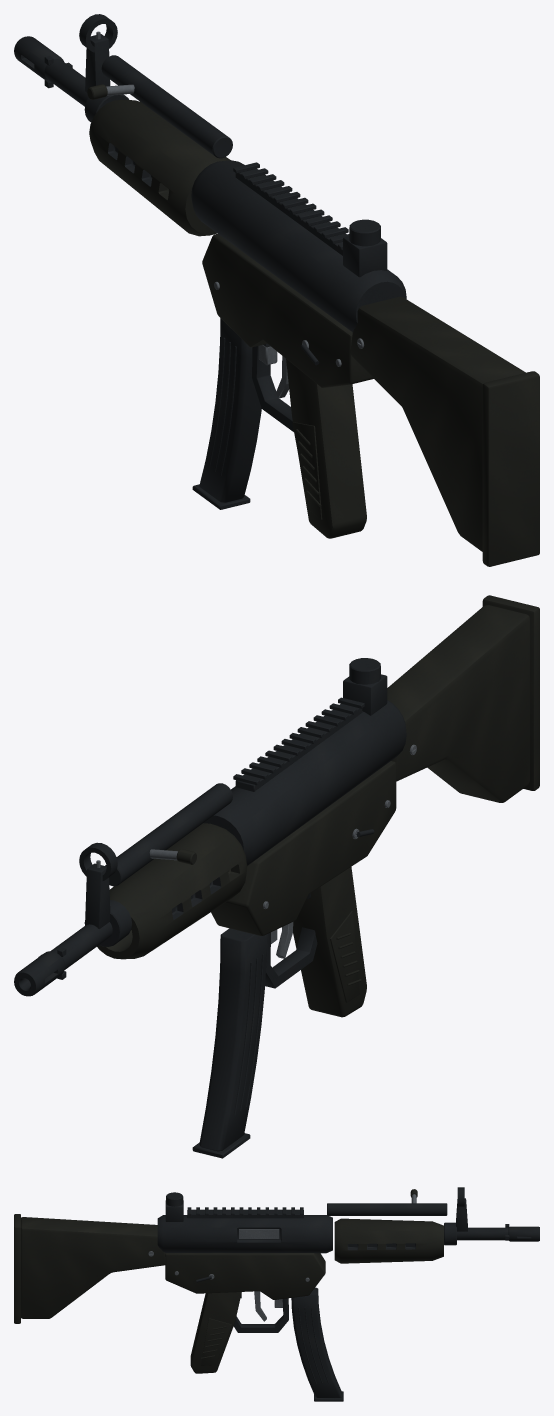
File: smg_realistic.glb
The picture shows the model from 3 angles, top to bottom: view 1: azimuth 30°, elevation 25°; view 2: azimuth 150°, elevation 25°; view 3: azimuth 270°, elevation 25°; orthographic projection. The views are drawn at different scales.
Visible parts, largest first — view 1: Fixed polymer shoulder stock, Stamped upper receiver, SMG lower trigger housing, SMG recoil pad, Wide polymer forearm, Pistol grip, Curved 9mm magazine, Cocking tube, Trigger guard, Grip moulded insert, Diopter sight pedestal, Rail dovetail (+5 smaller); view 2: Fixed polymer shoulder stock, SMG lower trigger housing, Stamped upper receiver, Wide polymer forearm, Curved 9mm magazine, Pistol grip, Cocking tube, SMG recoil pad, Trigger guard, Grip moulded insert, Three lug muzzle, Front sight support (+6 smaller); view 3: Fixed polymer shoulder stock, SMG lower trigger housing, Stamped upper receiver, Wide polymer forearm, Curved 9mm magazine, Pistol grip, Cocking tube, Rail dovetail, Grip moulded insert.001, SMG recoil pad, Short exposed barrel, Trigger guard (+5 smaller).
Part boxes in pixels (left/top/right/bottom): Fixed polymer shoulder stock: left=350, top=296, right=525, bottom=551; Stamped upper receiver: left=191, top=160, right=406, bottom=332; SMG lower trigger housing: left=202, top=233, right=373, bottom=387; SMG recoil pad: left=482, top=371, right=539, bottom=566; Wide polymer forearm: left=89, top=100, right=230, bottom=236; Pistol grip: left=286, top=359, right=366, bottom=538; Curved 9mm magazine: left=199, top=318, right=261, bottom=502; Cocking tube: left=101, top=55, right=232, bottom=158; Trigger guard: left=252, top=343, right=293, bottom=431; Grip moulded insert: left=292, top=422, right=322, bottom=519; Diopter sight pedestal: left=343, top=236, right=387, bottom=277; Rail dovetail: left=235, top=168, right=346, bottom=255; Fixed polymer shoulder stock: left=387, top=605, right=529, bottom=802; SMG lower trigger housing: left=211, top=761, right=396, bottom=935; Stamped upper receiver: left=204, top=700, right=406, bottom=865; Wide polymer forearm: left=97, top=823, right=247, bottom=959; Curved 9mm magazine: left=199, top=928, right=267, bottom=1151; Pistol grip: left=293, top=867, right=366, bottom=1017; Cocking tube: left=105, top=783, right=232, bottom=886; SMG recoil pad: left=482, top=595, right=539, bottom=790; Trigger guard: left=265, top=893, right=317, bottom=988; Grip moulded insert: left=330, top=911, right=359, bottom=1002; Three lug muzzle: left=14, top=951, right=64, bottom=996; Front sight support: left=85, top=863, right=110, bottom=928; Fixed polymer shoulder stock: left=21, top=1217, right=165, bottom=1318; SMG lower trigger housing: left=165, top=1253, right=325, bottom=1299; Stamped upper receiver: left=157, top=1215, right=332, bottom=1253; Wide polymer forearm: left=334, top=1218, right=443, bottom=1263; Curved 9mm magazine: left=291, top=1287, right=342, bottom=1397; Pistol grip: left=190, top=1292, right=241, bottom=1373; Cocking tube: left=327, top=1203, right=447, bottom=1215; Rail dovetail: left=187, top=1209, right=303, bottom=1218; Grip moulded insert.001: left=201, top=1318, right=231, bottom=1365; SMG recoil pad: left=14, top=1214, right=20, bottom=1323; Short exposed barrel: left=457, top=1227, right=507, bottom=1240; Trigger guard: left=233, top=1294, right=288, bottom=1332.
Bounding box in the file's own units: 0.0775 × 0.325 × 0.74.
4 materials, 4 textured.
